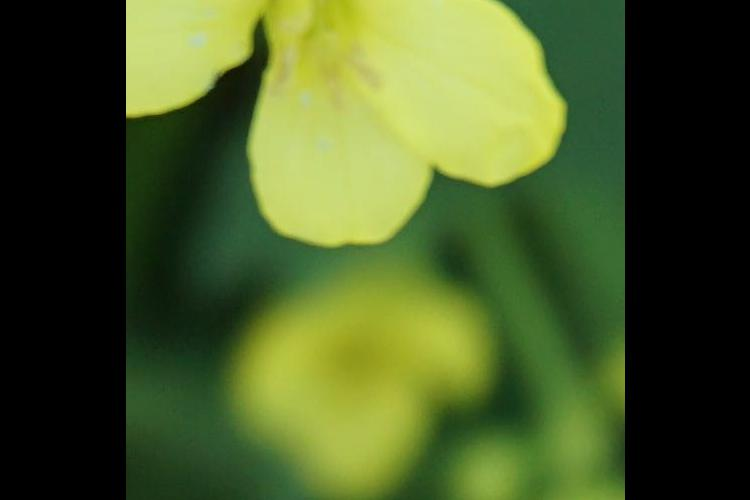yellow: (127, 1, 572, 243)
